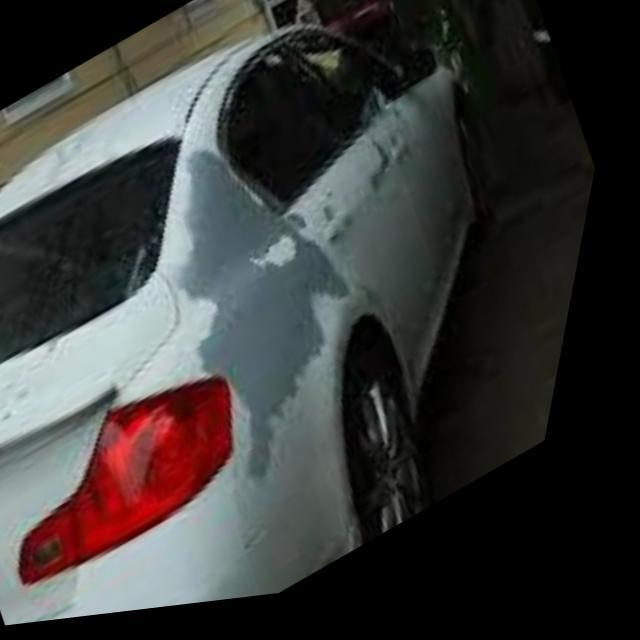rub: (178, 150, 379, 499)
